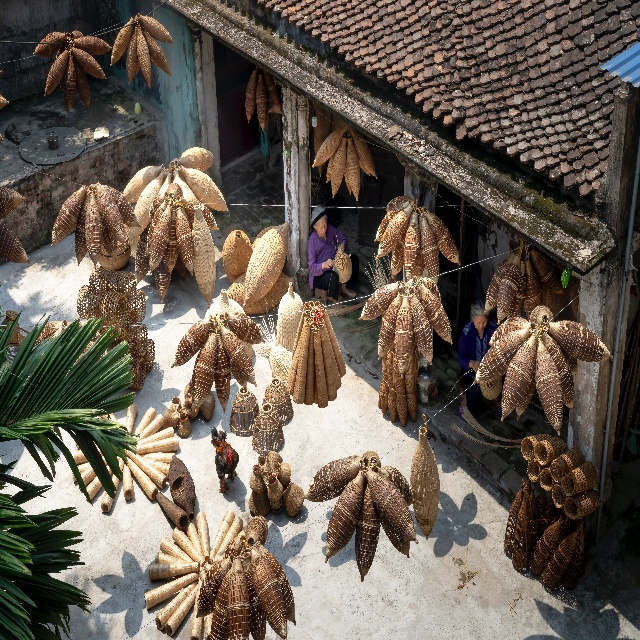Sin_guantes: (325, 258, 335, 268), (472, 360, 480, 372)
